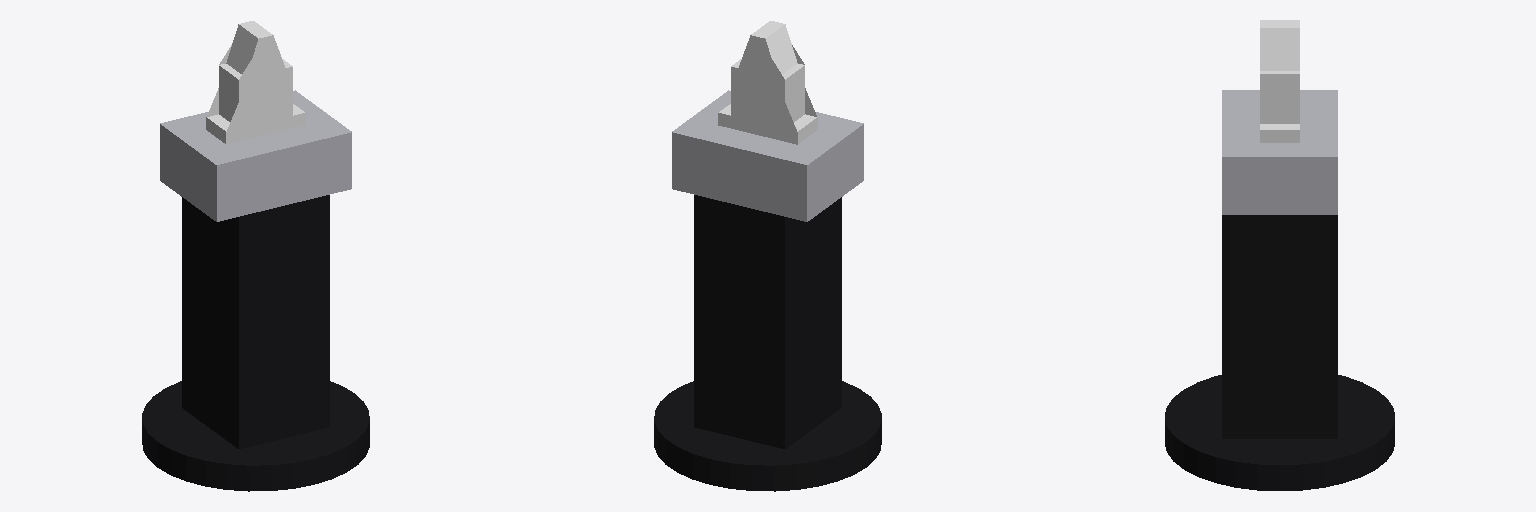
URDF robot description (pgea_100_40_o):
<?xml version="1.0"?>
<robot name="pgea_100_40_o">
  <link name="flange"/>

  <!-- ===== DH Robotics PGEA-100-40-O (measured 2026-11-21; see make_pgea_urdf.py for assumed values) ===== -->
  <material name="pgea_black"><color rgba="0.12 0.12 0.13 1"/></material>
  <material name="pgea_white"><color rgba="0.92 0.92 0.92 1"/></material>
  <material name="pgea_alu"><color rgba="0.75 0.75 0.78 1"/></material>
  <joint name="pgea_mount" type="fixed">
    <origin xyz="0 0 0" rpy="0 0 0"/><parent link="flange"/><child link="pgea_base"/>
  </joint>
  <link name="pgea_base">
    <inertial><origin xyz="0 0 0.065"/><mass value="0.55"/>
      <inertia ixx="0.000755517" ixy="0" ixz="0" iyy="0.000820829" iyz="0" izz="0.000211979"/></inertial>
    <visual name="adapter"><origin xyz="0 0 0.0050"/><geometry><cylinder radius="0.0400" length="0.0100"/></geometry><material name="pgea_black"/></visual>
    <collision name="adapter"><origin xyz="0 0 0.0050"/><geometry><cylinder radius="0.0400" length="0.0100"/></geometry></collision>
    <visual name="body"><origin xyz="0 0 0.0550"/><geometry><box size="0.0370 0.0400 0.0900"/></geometry><material name="pgea_black"/></visual>
    <collision name="body"><origin xyz="0 0 0.0550"/><geometry><box size="0.0370 0.0400 0.0900"/></geometry></collision>
    <visual name="housing"><origin xyz="0 0 0.1110"/><geometry><box size="0.0550 0.0400 0.0220"/></geometry><material name="pgea_alu"/></visual>
    <collision name="housing"><origin xyz="0 0 0.1110"/><geometry><box size="0.0550 0.0400 0.0220"/></geometry></collision>
  </link>
  <link name="finger_left">
    <inertial><origin xyz="0.0080 0 0.019"/><mass value="0.03"/>
      <inertia ixx="4.61e-06" ixy="0" ixz="0" iyy="4.25e-06" iyz="0" izz="1.64e-06"/></inertial>
    <visual><geometry><mesh filename="../meshes/finger_left.stl"/></geometry><material name="pgea_white"/></visual>
    <collision><geometry><mesh filename="../meshes/finger_left.stl"/></geometry></collision>
  </link>
  <joint name="finger_left_joint" type="prismatic">
    <origin xyz="0 0 0.1220" rpy="0 0 0"/><parent link="pgea_base"/><child link="finger_left"/>
    <axis xyz="1 0 0"/><limit lower="0" upper="0.0220" effort="100" velocity="0.05"/>
  </joint>
  <link name="finger_right">
    <inertial><origin xyz="-0.0080 0 0.019"/><mass value="0.03"/>
      <inertia ixx="4.61e-06" ixy="0" ixz="0" iyy="4.25e-06" iyz="0" izz="1.64e-06"/></inertial>
    <visual><geometry><mesh filename="../meshes/finger_right.stl"/></geometry><material name="pgea_white"/></visual>
    <collision><geometry><mesh filename="../meshes/finger_right.stl"/></geometry></collision>
  </link>
  <joint name="finger_right_joint" type="prismatic">
    <origin xyz="0 0 0.1220" rpy="0 0 0"/><parent link="pgea_base"/><child link="finger_right"/>
    <axis xyz="-1 0 0"/><limit lower="0" upper="0.0220" effort="100" velocity="0.05"/>
  </joint>
  <!-- TCP = fingertip centre, FR5 tool 1 (0, 0, 160) -->
  <link name="tcp"/>
  <joint name="tcp_joint" type="fixed">
    <origin xyz="0 0 0.1600" rpy="0 0 0"/><parent link="pgea_base"/><child link="tcp"/>
  </joint>
  <!-- D435 + bracket: add a fixed camera link here once the mount is measured (design 5.2) -->
</robot>

--- Render facts (derived) ---
Views: 3 orthographic renders of the robot side by side, from view 1: azimuth 30°, elevation 25°; view 2: azimuth 150°, elevation 25°; view 3: azimuth 270°, elevation 25°.
Robot: pgea_100_40_o — 5 links, 4 joints (2 prismatic, 2 fixed); root link flange; default pose: all joints at 0.
Links seen in each view (by area): view 1: pgea_base, finger_right, finger_left; view 2: pgea_base, finger_right, finger_left; view 3: pgea_base, finger_left.
Link boxes in pixels (<box>): pgea_base: <box>142,90,369,491</box>; finger_right: <box>206,22,265,144</box>; finger_left: <box>246,21,305,134</box>; pgea_base: <box>654,90,881,491</box>; finger_right: <box>758,22,817,144</box>; finger_left: <box>718,21,777,134</box>; pgea_base: <box>1165,90,1394,490</box>; finger_left: <box>1260,24,1299,142</box>.
Bounding box of the posed robot: 0.08 × 0.08 × 0.16 m (x, y, z).
2 mesh visuals loaded from 2 distinct referenced files (2 binary STL).
